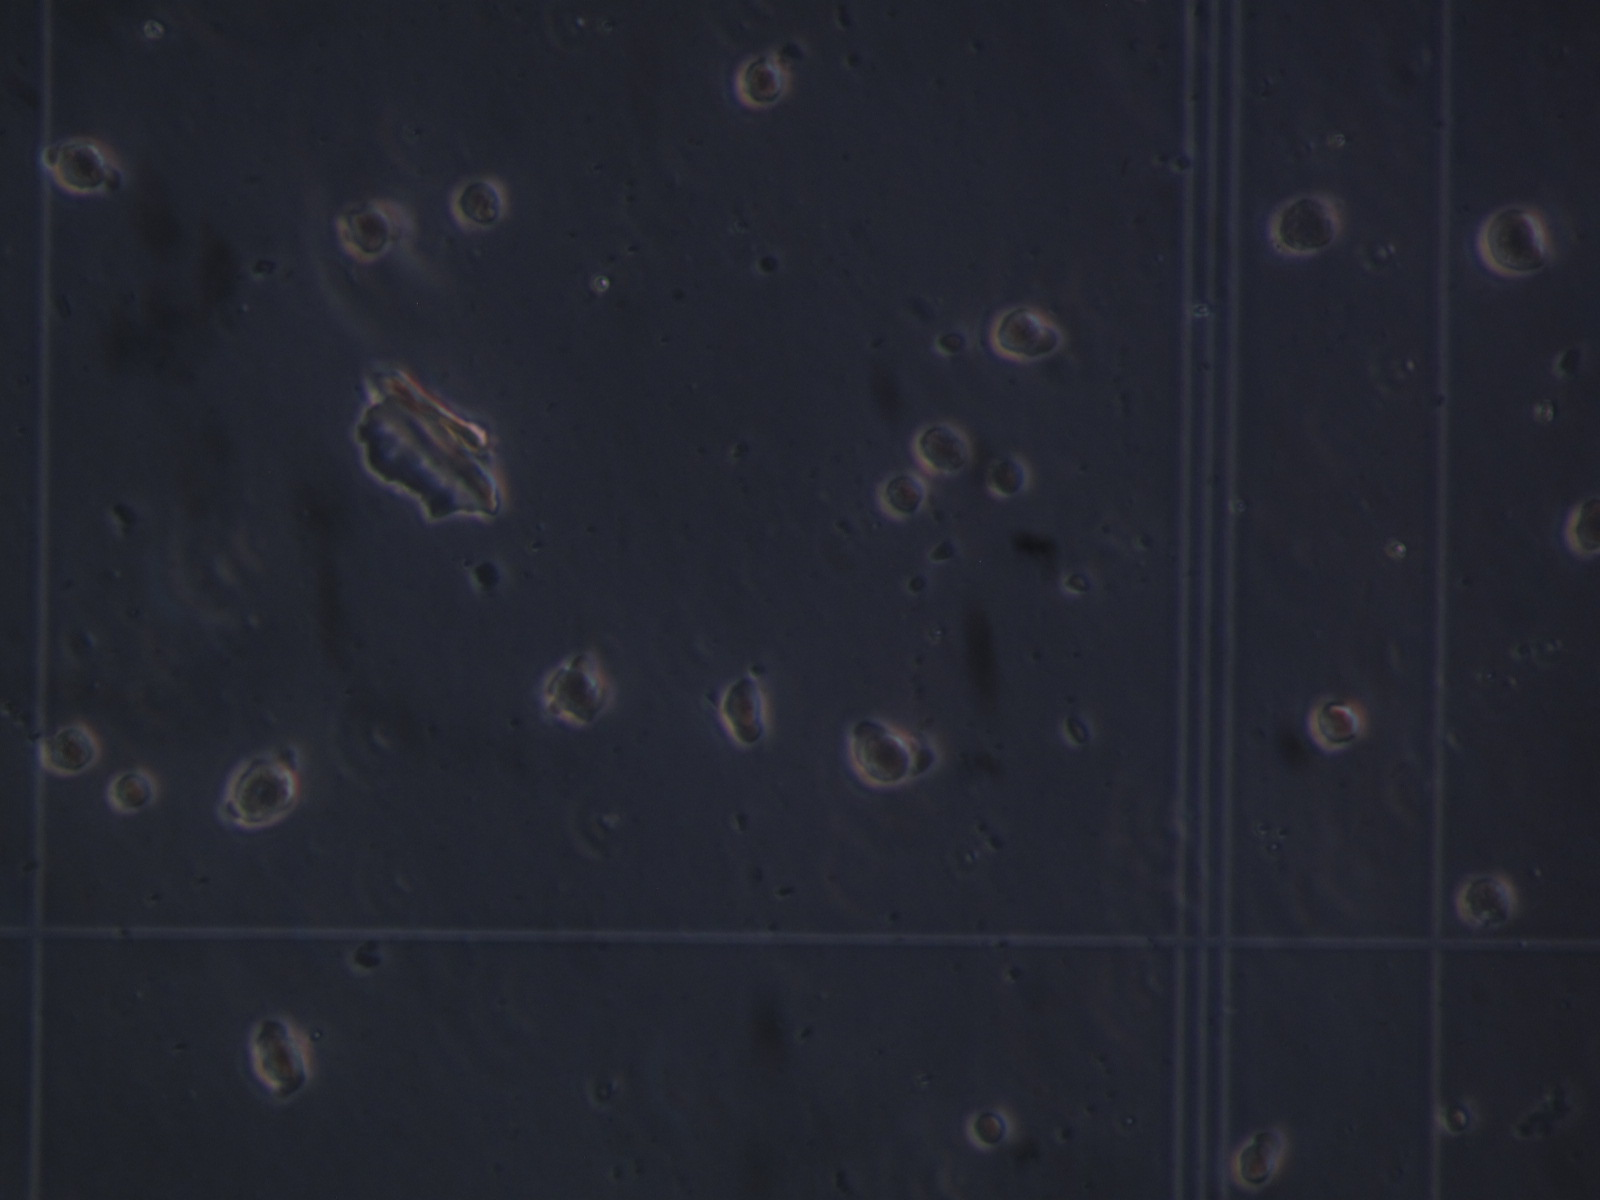hemo: (226, 753, 304, 828), (249, 1017, 315, 1098), (1477, 204, 1550, 276), (547, 652, 612, 729), (1269, 190, 1343, 257), (993, 303, 1067, 364), (717, 674, 771, 751), (338, 197, 398, 263), (445, 174, 511, 234), (38, 718, 102, 778), (1454, 868, 1519, 926), (729, 50, 792, 110), (913, 416, 976, 475), (1310, 689, 1368, 753), (50, 136, 110, 197), (877, 464, 935, 522), (858, 734, 912, 789), (105, 766, 163, 818), (1236, 1129, 1285, 1187), (1560, 495, 1600, 558), (966, 1102, 1014, 1148), (986, 453, 1033, 498)
